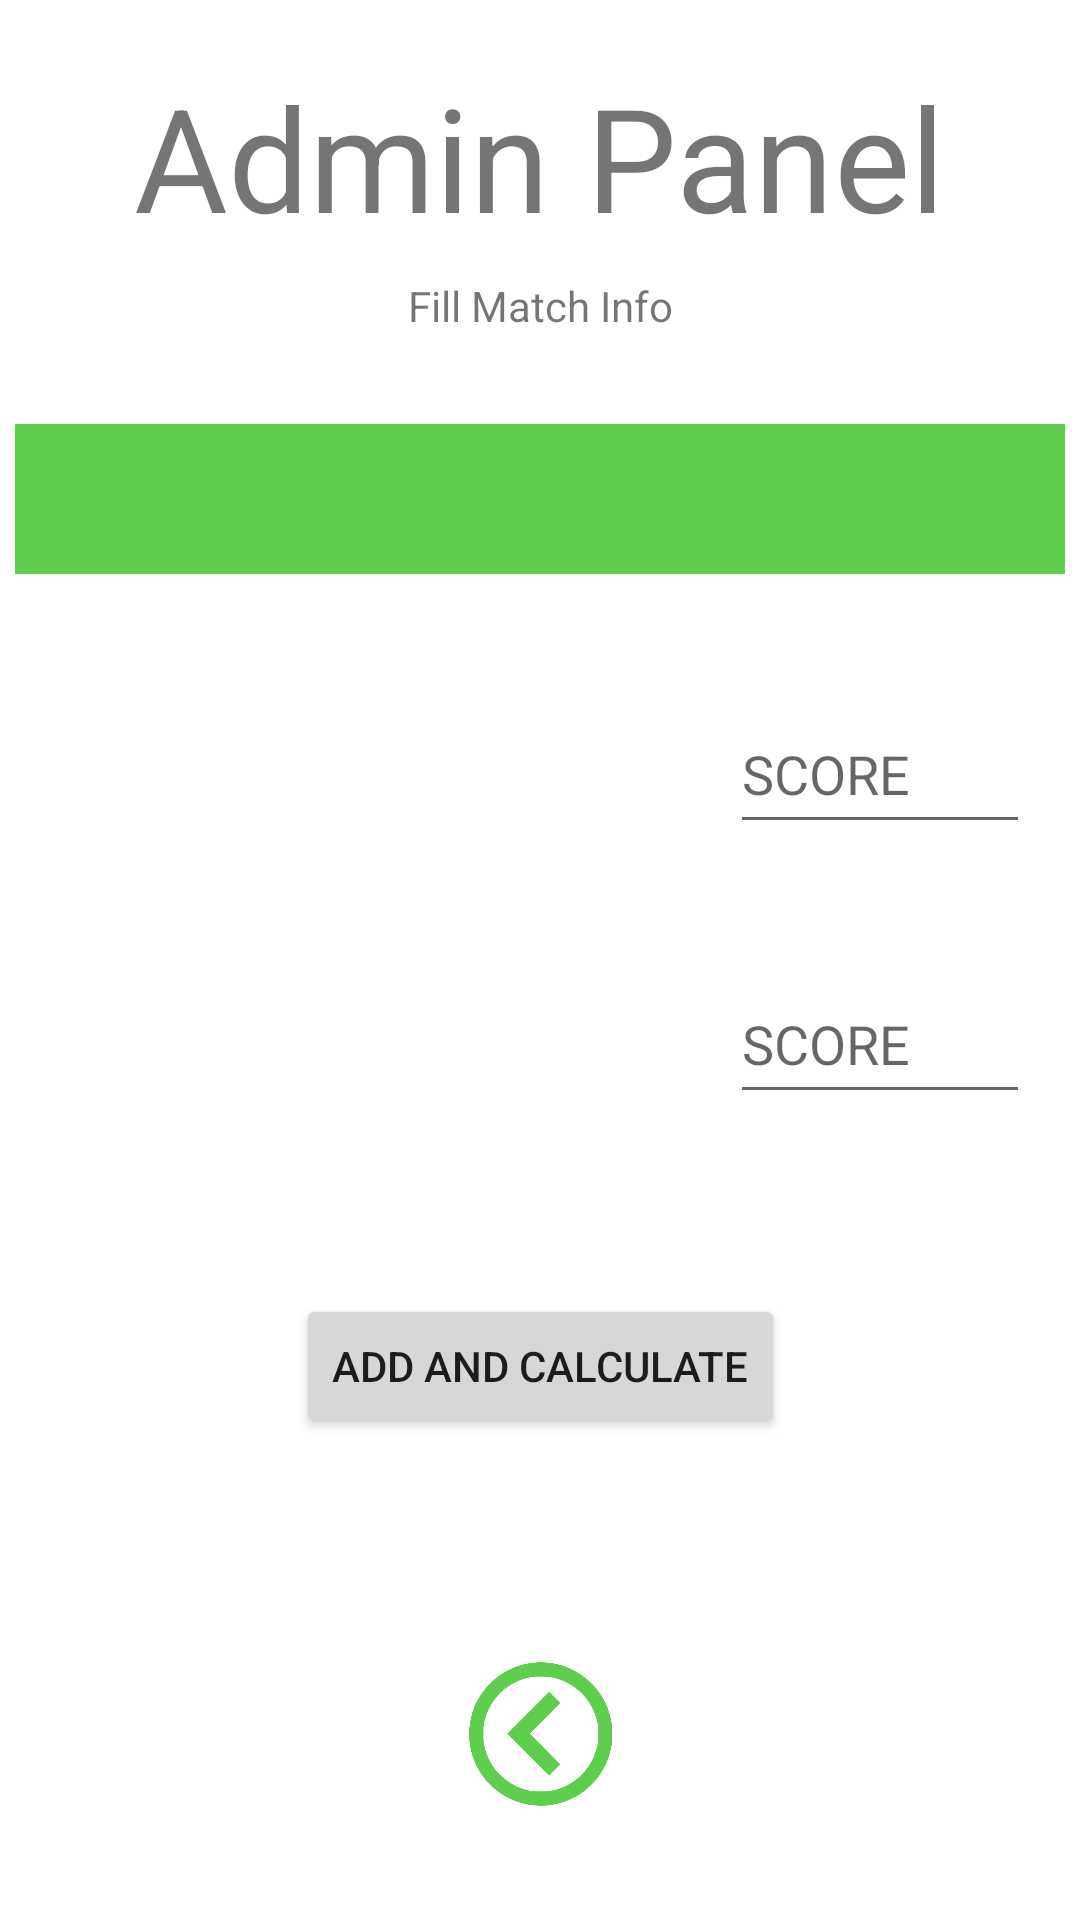

Locate icon controls on the screen. Image size 1080x1920, boxes as (x1, y1, x2, y2).
back: (469, 1662, 612, 1806)
